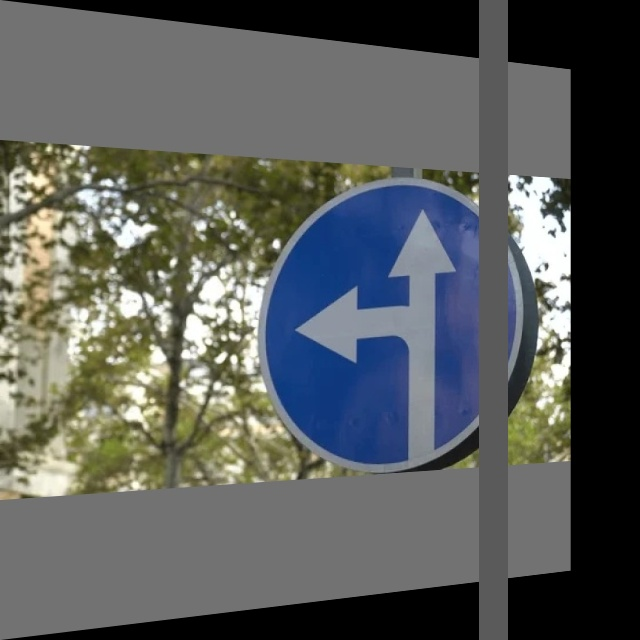Compulsory_Ahead_or_Turn_Left: (260, 170, 537, 473)
